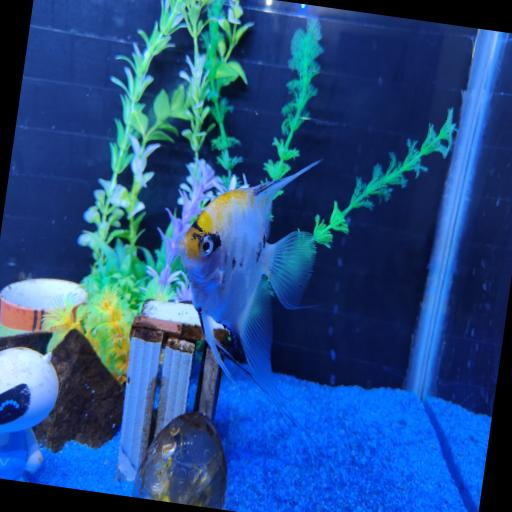Fish: (178, 161, 318, 418)
